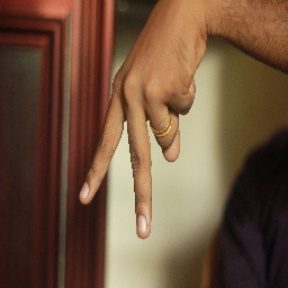Y: (77, 48, 202, 241)
